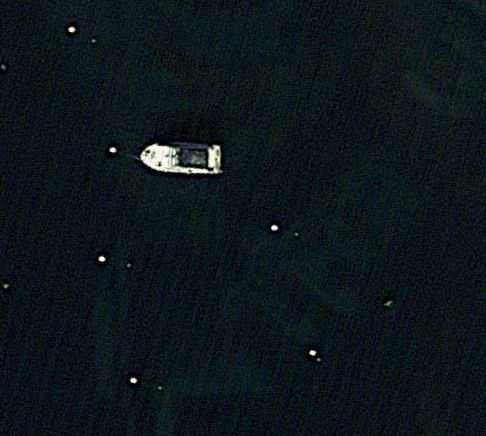boat: (138, 137, 225, 178)
